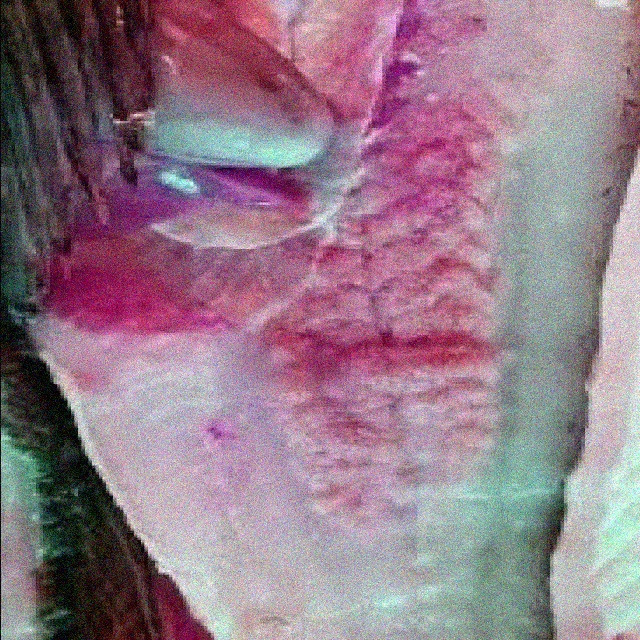EUS Disease: (1, 4, 636, 627)
